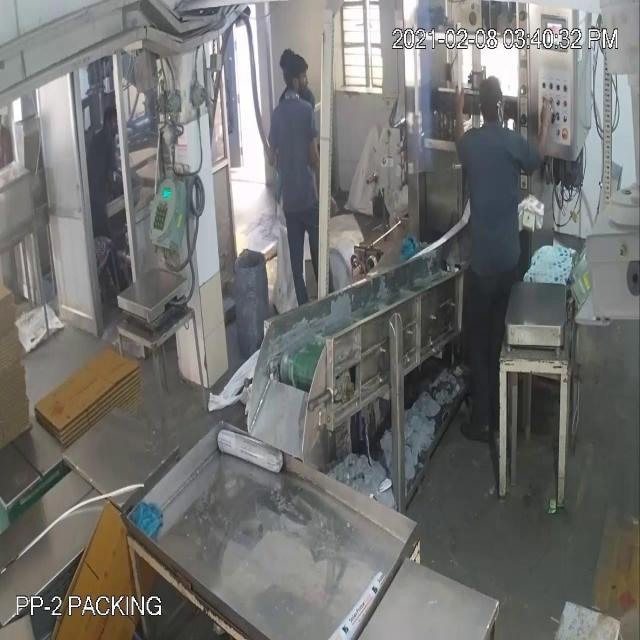No_Gloves: (25, 75, 540, 126)
